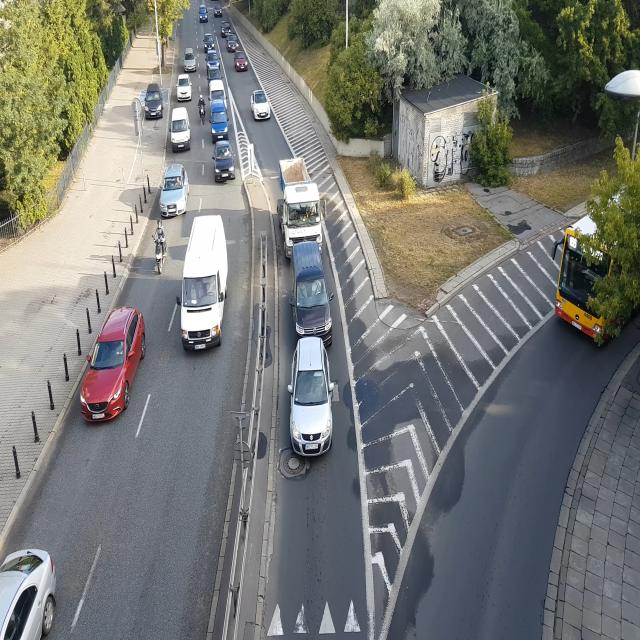bus: (550, 167, 640, 347)
car: (78, 306, 148, 424), (179, 212, 228, 366), (289, 336, 337, 460), (0, 550, 57, 640), (290, 244, 334, 338), (154, 162, 190, 215), (167, 110, 191, 152), (143, 85, 165, 120), (251, 89, 272, 121), (212, 154, 235, 183), (212, 102, 229, 133), (208, 80, 228, 106), (176, 77, 193, 101), (208, 58, 223, 77), (184, 53, 198, 73), (234, 54, 248, 72), (227, 33, 240, 51), (203, 36, 215, 52), (220, 20, 232, 36), (198, 7, 208, 23), (212, 6, 225, 18)
motorcycle: (147, 218, 172, 284), (196, 92, 207, 125)
truck: (277, 163, 323, 249)
